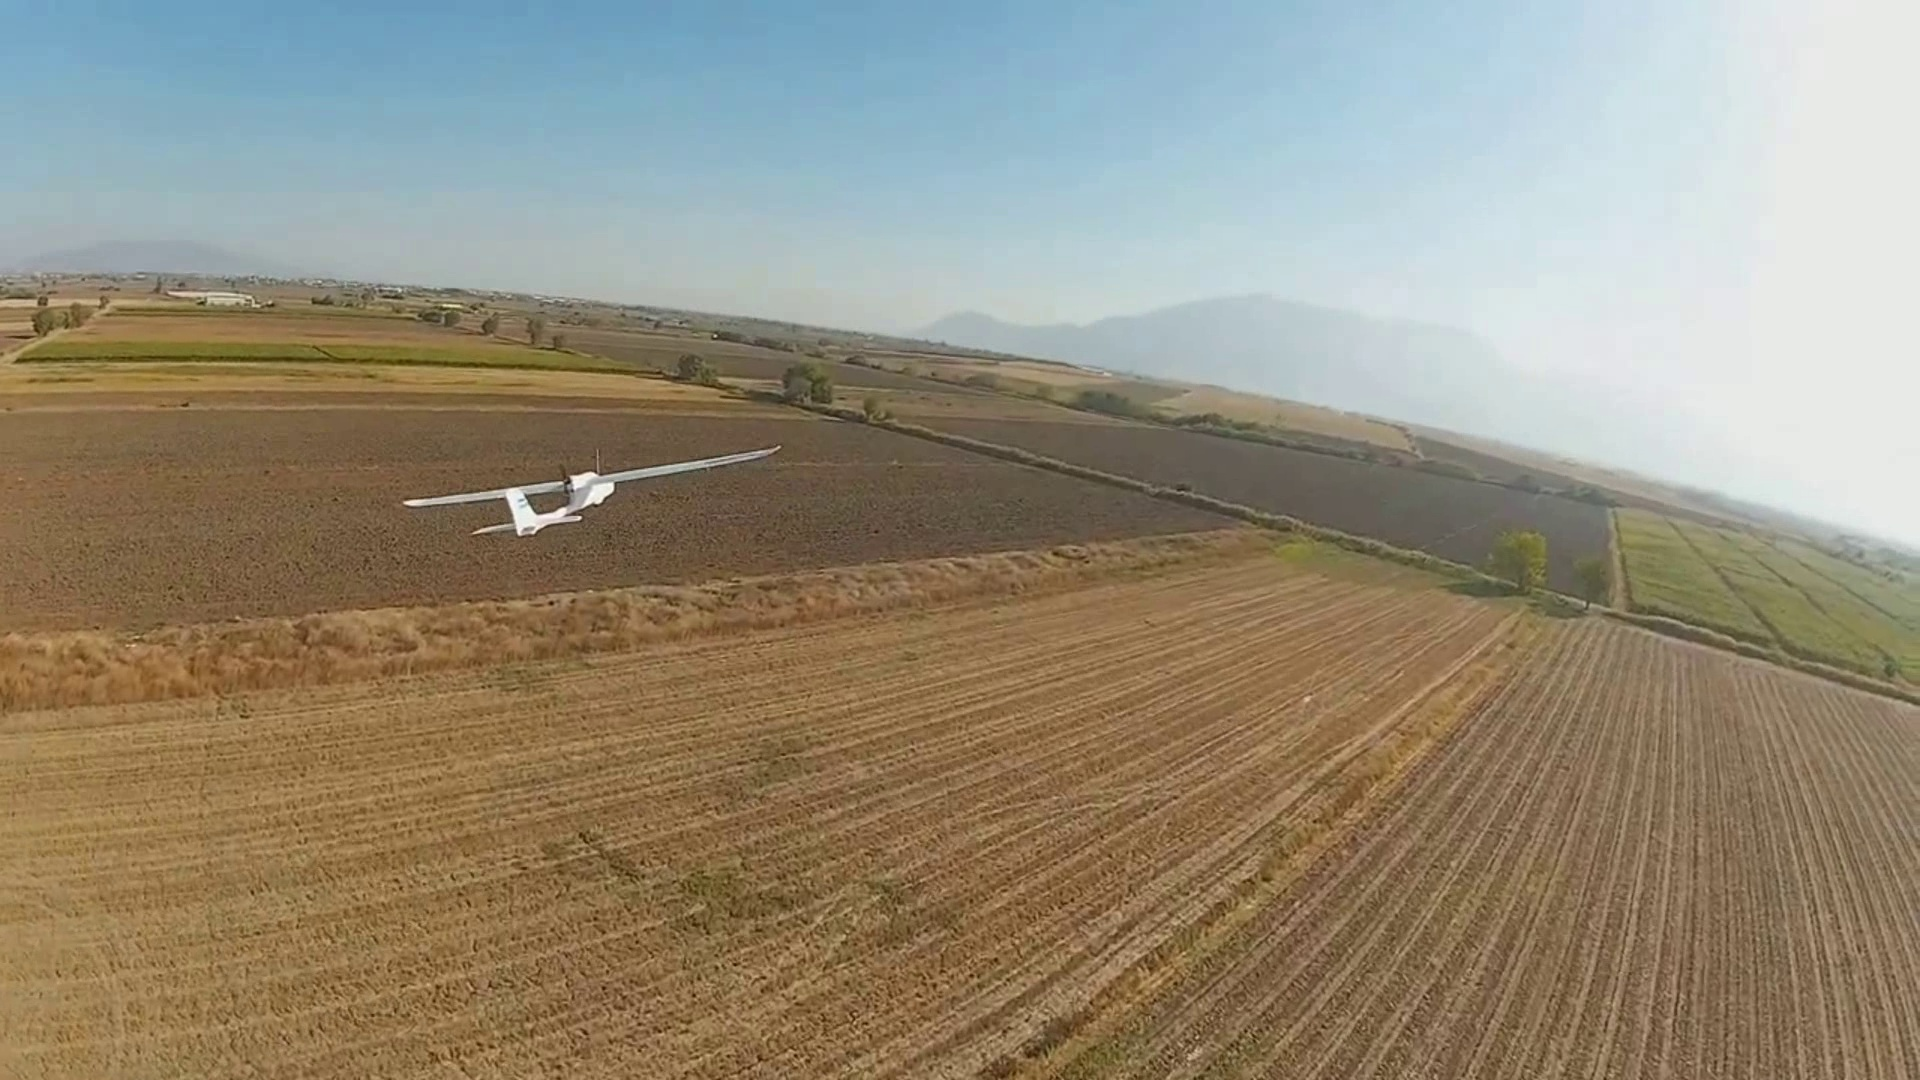airplane: (402, 444, 779, 535)
